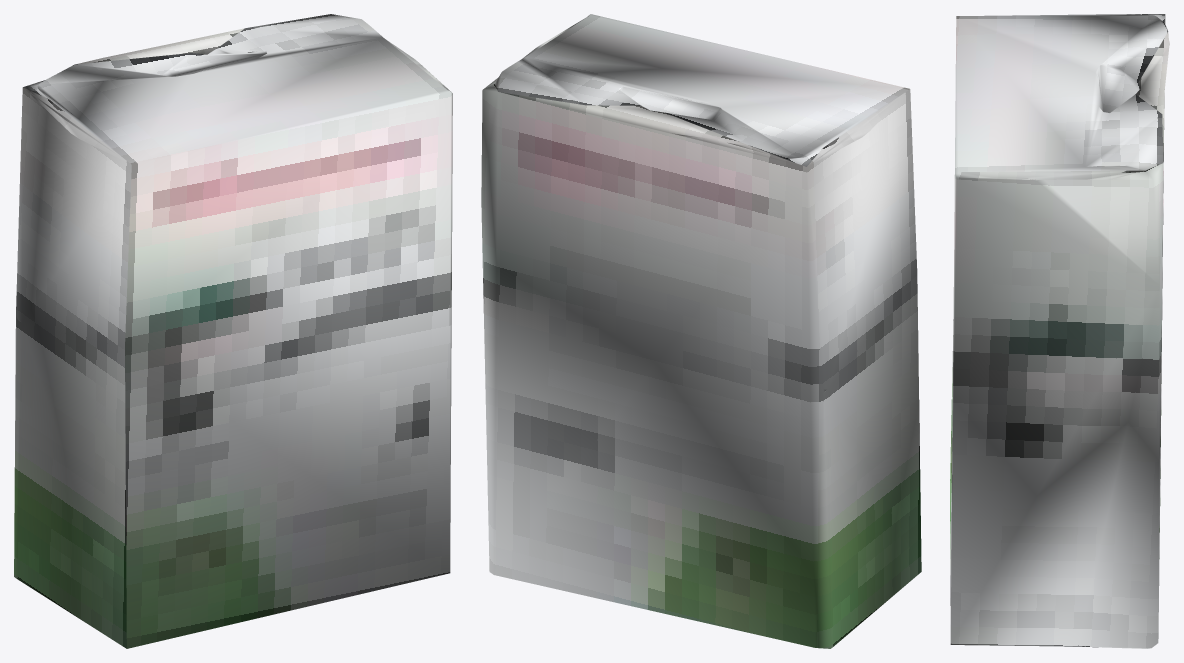
Rendered from Office_Depot_Dell_Series_1_Remanufactured_Ink_Cartridge_Black-low.glb.
3 renders of one model, left to right at view 1: azimuth 30°, elevation 25°; view 2: azimuth 150°, elevation 25°; view 3: azimuth 270°, elevation 25°, orthographic. The views are drawn at different scales.
Parts seen in each view (by area): view 1: Office_Depot_Dell_Series_1_Remanufactured_Ink_Cartridge_Blac; view 2: Office_Depot_Dell_Series_1_Remanufactured_Ink_Cartridge_Blac; view 3: Office_Depot_Dell_Series_1_Remanufactured_Ink_Cartridge_Blac.
Boxes of the visible parts, x1,y1,x2,y2 form: Office_Depot_Dell_Series_1_Remanufactured_Ink_Cartridge_Blac: (14, 14, 452, 648); Office_Depot_Dell_Series_1_Remanufactured_Ink_Cartridge_Blac: (481, 14, 921, 648); Office_Depot_Dell_Series_1_Remanufactured_Ink_Cartridge_Blac: (950, 14, 1169, 648).
Size of the model in its own units: 0.0862 by 0.1177 by 0.048.
1 material, 1 textured.
